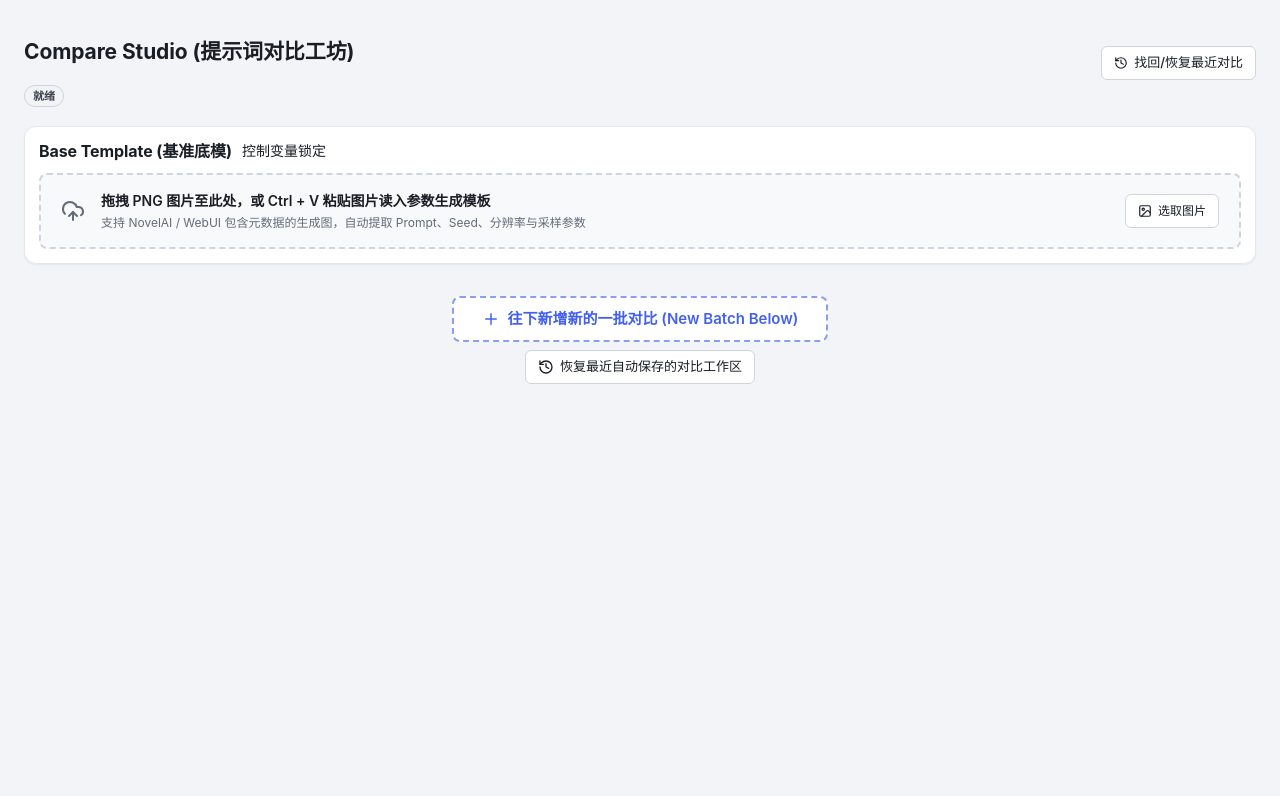
CompareStudio › allows deleting a round when multiple rounds exist
The width and height of the screenshot is (1280, 796).
Click the button "往下新增新的一批对比 (New Batch Below)": (640, 319) [452,296,828,342]
(page scrolled)
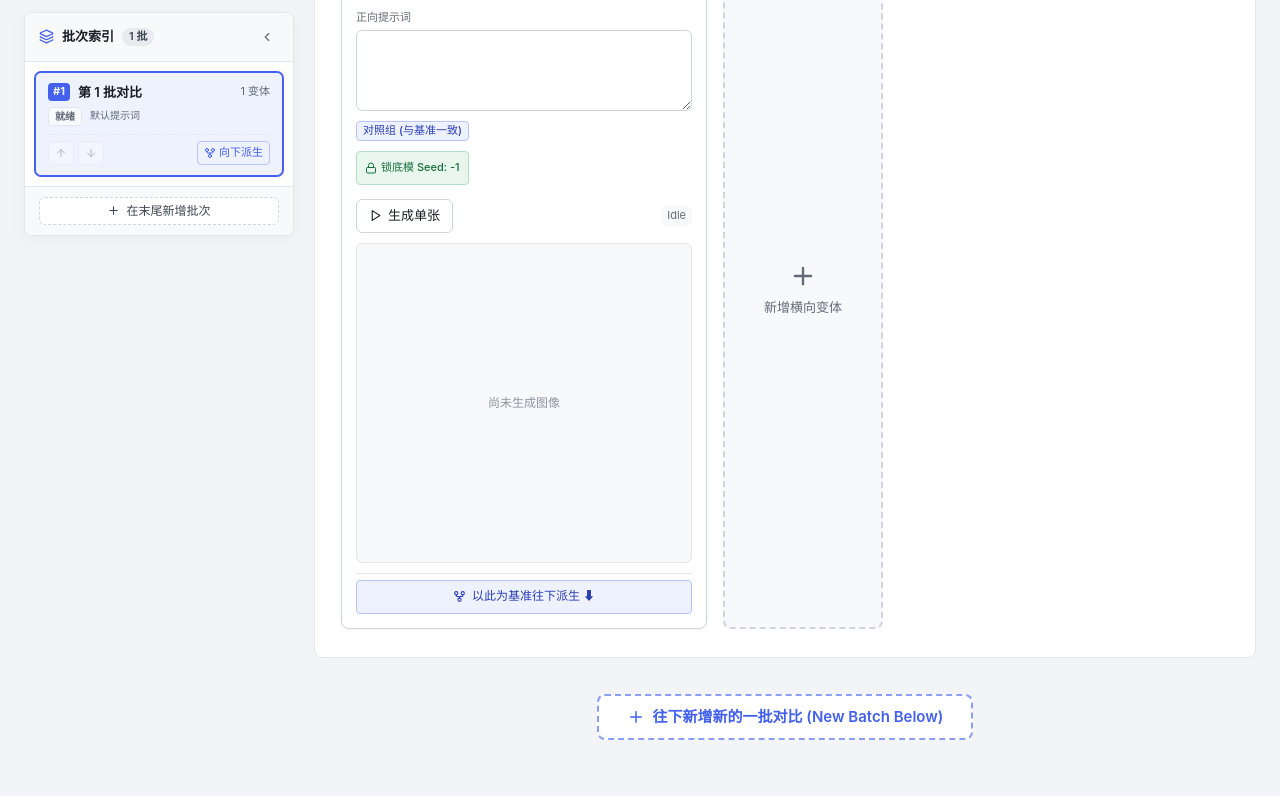
Click the button "往下新增新的一批对比 (New Batch Below)": (785, 717) [596,694,973,740]
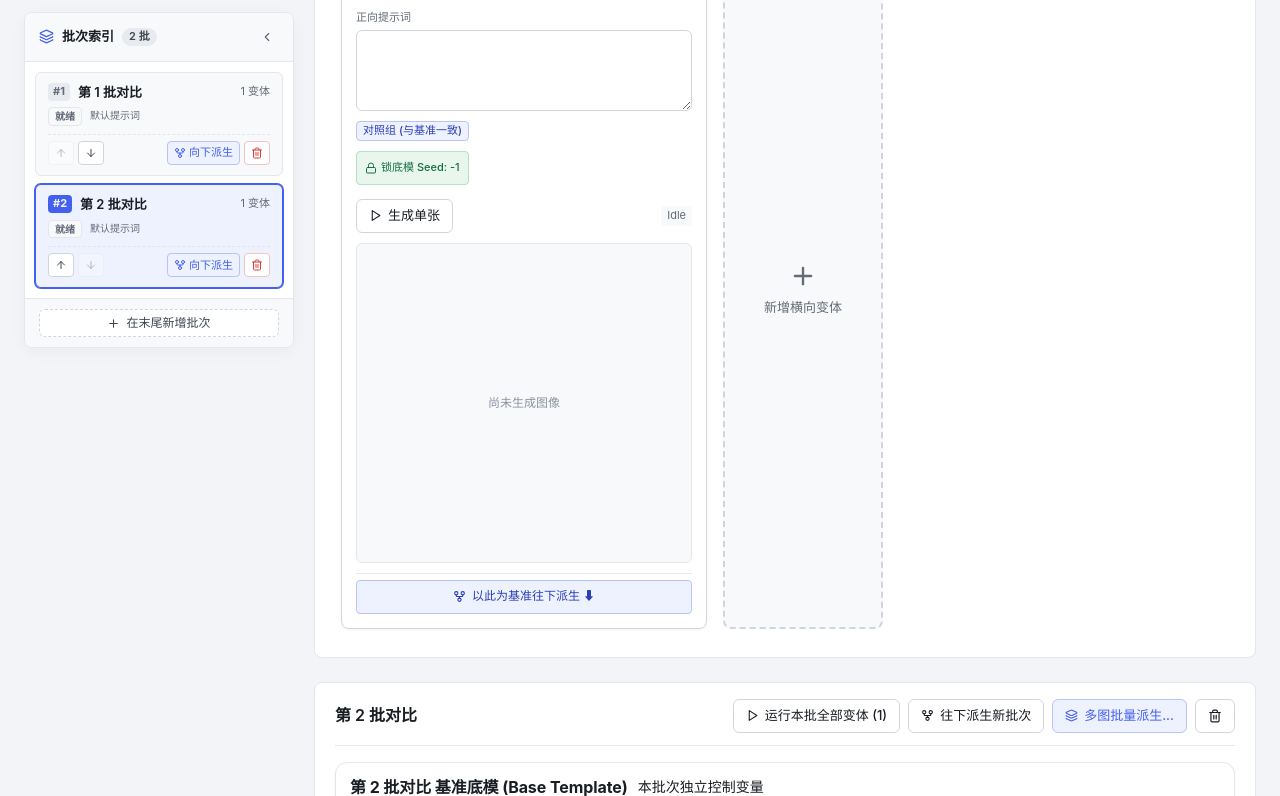
Expected: the number of buttons "删除整批" is 2
Click the button named "删除整批": (1215, 716) [1195,699,1235,733]
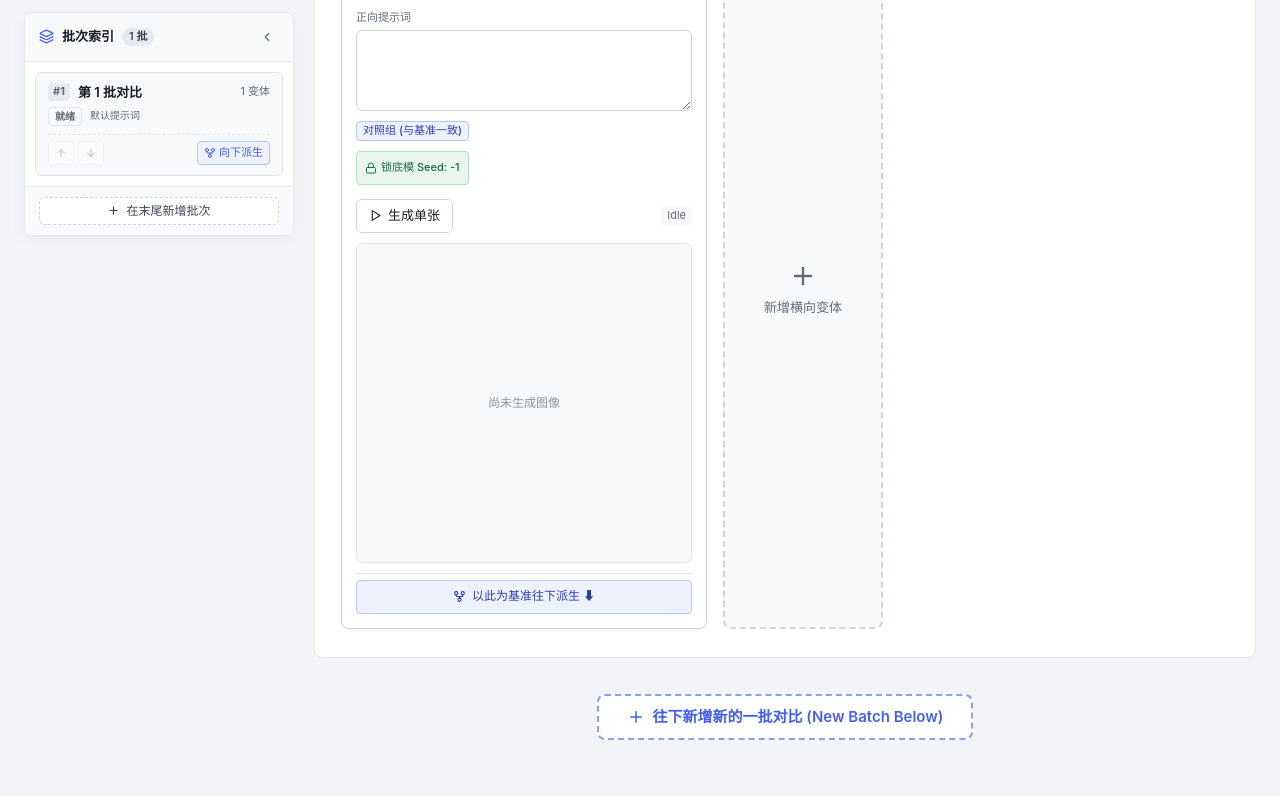
Expected: the text "第 2 批对比" is gone
Expected: the button "删除整批" is gone
